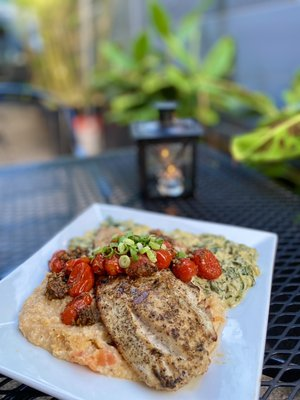curry: (2, 123, 299, 400)
